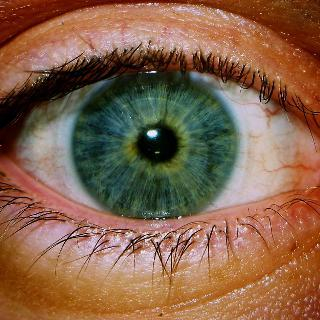pupil: (137, 124, 178, 165)
